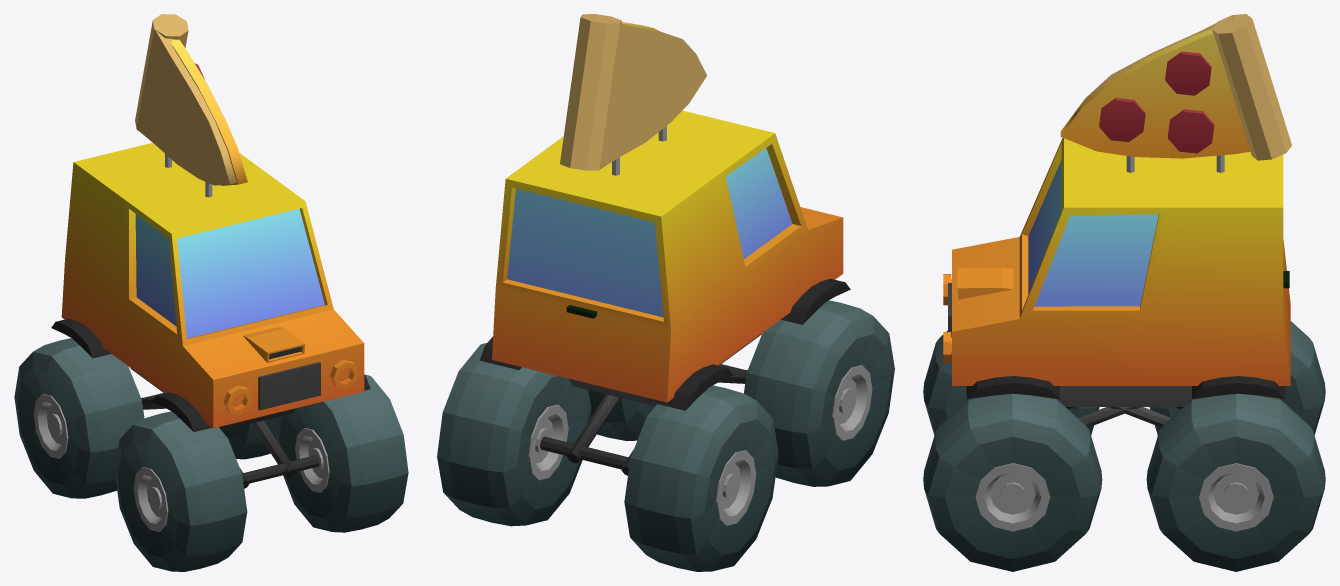
File: pizzaCarTex.fbx
3 renders of one model, left to right at view 1: azimuth 30°, elevation 25°; view 2: azimuth 150°, elevation 25°; view 3: azimuth 270°, elevation 25°, orthographic. The views are drawn at different scales.
Visible parts, largest first — view 1: polySurface9, polySurface6, polySurface4, polySurface5, polySurface3; view 2: polySurface9, polySurface4, polySurface6, polySurface3, polySurface5; view 3: polySurface9, polySurface5, polySurface3, polySurface4, polySurface6.
Boxes of the visible parts, <box> form: polySurface9: <box>51,14,370,488</box>; polySurface6: <box>114,411,247,571</box>; polySurface4: <box>14,338,144,498</box>; polySurface5: <box>275,374,408,532</box>; polySurface3: <box>222,417,277,459</box>; polySurface9: <box>480,14,850,475</box>; polySurface4: <box>624,385,778,571</box>; polySurface6: <box>744,300,894,486</box>; polySurface3: <box>437,343,591,526</box>; polySurface5: <box>588,390,654,440</box>; polySurface9: <box>943,14,1291,427</box>; polySurface5: <box>923,393,1102,571</box>; polySurface3: <box>1146,393,1325,571</box>; polySurface4: <box>1149,321,1325,435</box>; polySurface6: <box>923,330,1099,435</box>.
Size of the model in its own units: 1.51 by 2.85 by 2.07.
